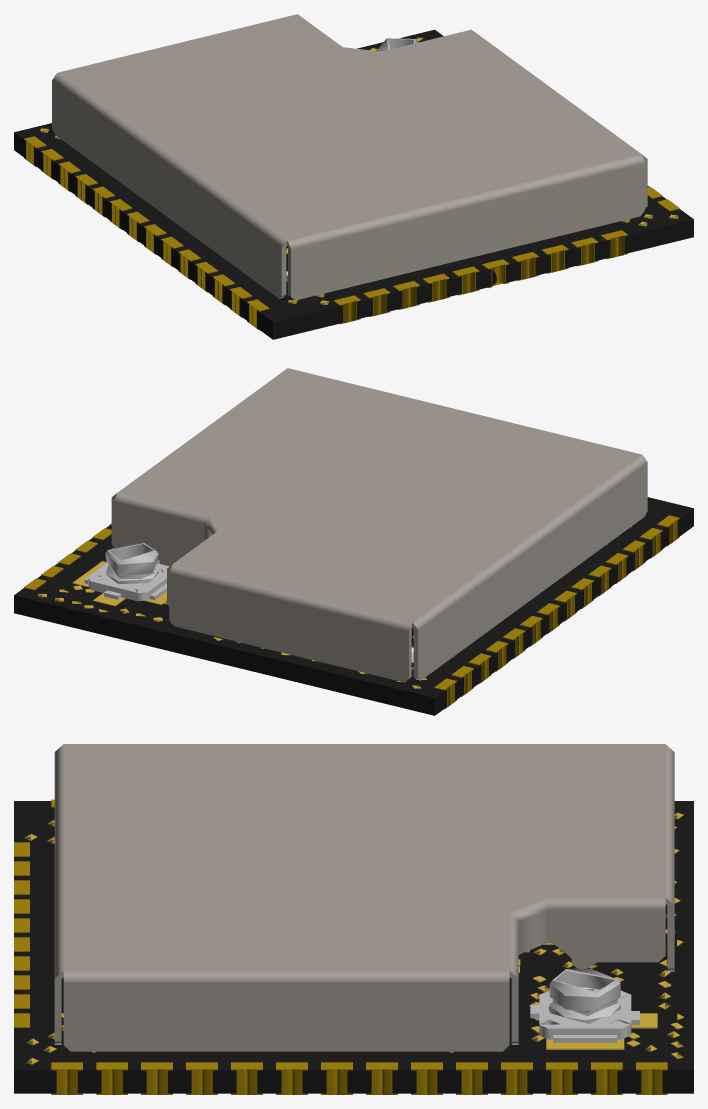
Rendered from esp-esp32-wroom-32ue.glb.
3 views of the same model, one above another, from view 1: azimuth 30°, elevation 25°; view 2: azimuth 150°, elevation 25°; view 3: azimuth 270°, elevation 25° (orthographic). The views are drawn at different scales.
Visible parts, largest first — view 1: 0.4166666666666667_0.3333333333333333_0.3333333333333333_0, 0_0_0_0, 0.4166666666666667_0.25_0_0; view 2: 0.4166666666666667_0.3333333333333333_0.3333333333333333_0, 0_0_0_0, 0.4166666666666667_0.25_0_0, 0.5833333333333334_0.5833333333333334_0.5833333333333334_0.8, 0.6666666666666666_0.4166666666666667_0_0; view 3: 0.4166666666666667_0.3333333333333333_0.3333333333333333_0, 0_0_0_0, 0.4166666666666667_0.25_0_0, 0.5833333333333334_0.5833333333333334_0.5833333333333334_0.8, 0.6666666666666666_0.4166666666666667_0_0.
Part boxes in pixels (box(x1,y1,x2,y2)): 0.4166666666666667_0.3333333333333333_0.3333333333333333_0: box(52, 14, 647, 300); 0_0_0_0: box(14, 29, 693, 339); 0.4166666666666667_0.25_0_0: box(24, 136, 679, 330); 0.4166666666666667_0.3333333333333333_0.3333333333333333_0: box(111, 368, 647, 682); 0_0_0_0: box(14, 497, 693, 715); 0.4166666666666667_0.25_0_0: box(24, 515, 679, 709); 0.5833333333333334_0.5833333333333334_0.5833333333333334_0.8: box(84, 543, 169, 601); 0.6666666666666666_0.4166666666666667_0_0: box(37, 511, 647, 688); 0.4166666666666667_0.3333333333333333_0.3333333333333333_0: box(54, 744, 674, 1051); 0_0_0_0: box(14, 801, 693, 1093); 0.4166666666666667_0.25_0_0: box(14, 799, 667, 1094); 0.5833333333333334_0.5833333333333334_0.5833333333333334_0.8: box(530, 968, 639, 1042); 0.6666666666666666_0.4166666666666667_0_0: box(24, 812, 683, 1064).
Size of the model in its own units: 1.8 by 0.32 by 1.92.
